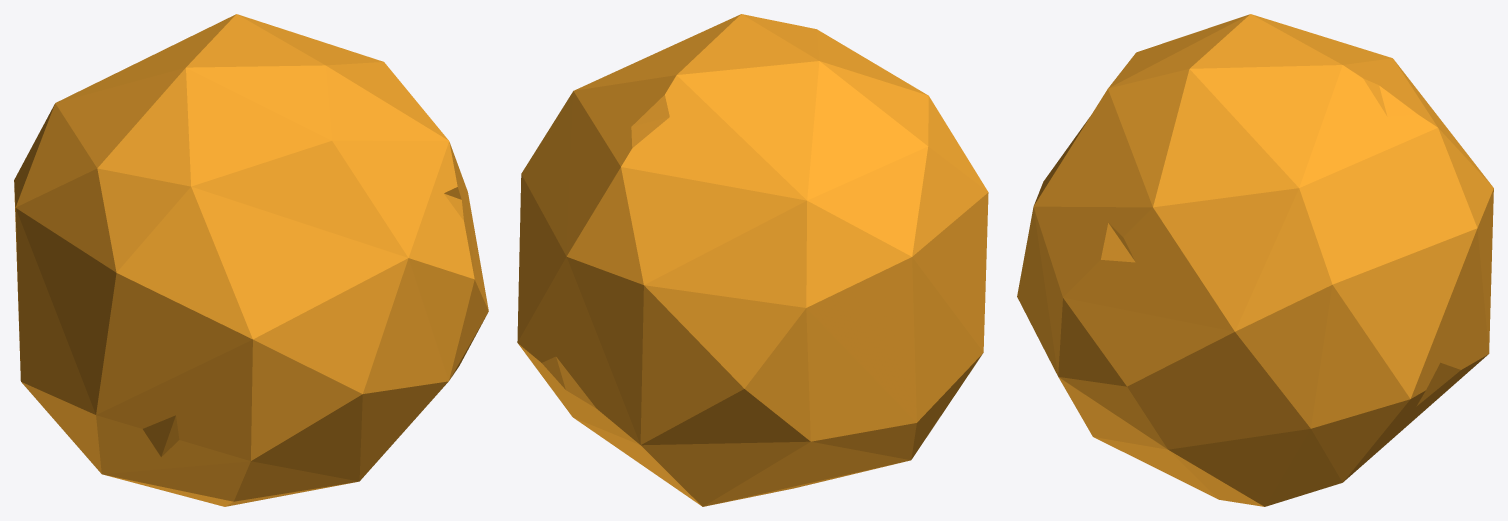
File: SM_Catapult_Ammo_Ball.fbx
3 views of the same model, side by side, from view 1: azimuth 30°, elevation 25°; view 2: azimuth 150°, elevation 25°; view 3: azimuth 270°, elevation 25° (orthographic).
Parts seen in each view (by area): view 1: catapult-ammo-ball; view 2: catapult-ammo-ball; view 3: catapult-ammo-ball.
Boxes of the visible parts, x1,y1,x2,y2 form: catapult-ammo-ball: [14, 14, 488, 506]; catapult-ammo-ball: [517, 14, 988, 506]; catapult-ammo-ball: [1017, 14, 1493, 506].
Size of the model in its own units: 0.4401 by 0.4578 by 0.4501.
